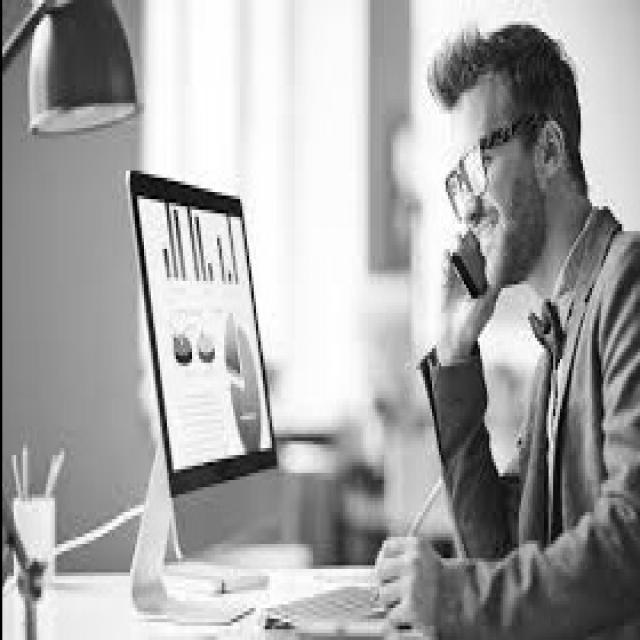phone: (418, 174, 508, 359)
